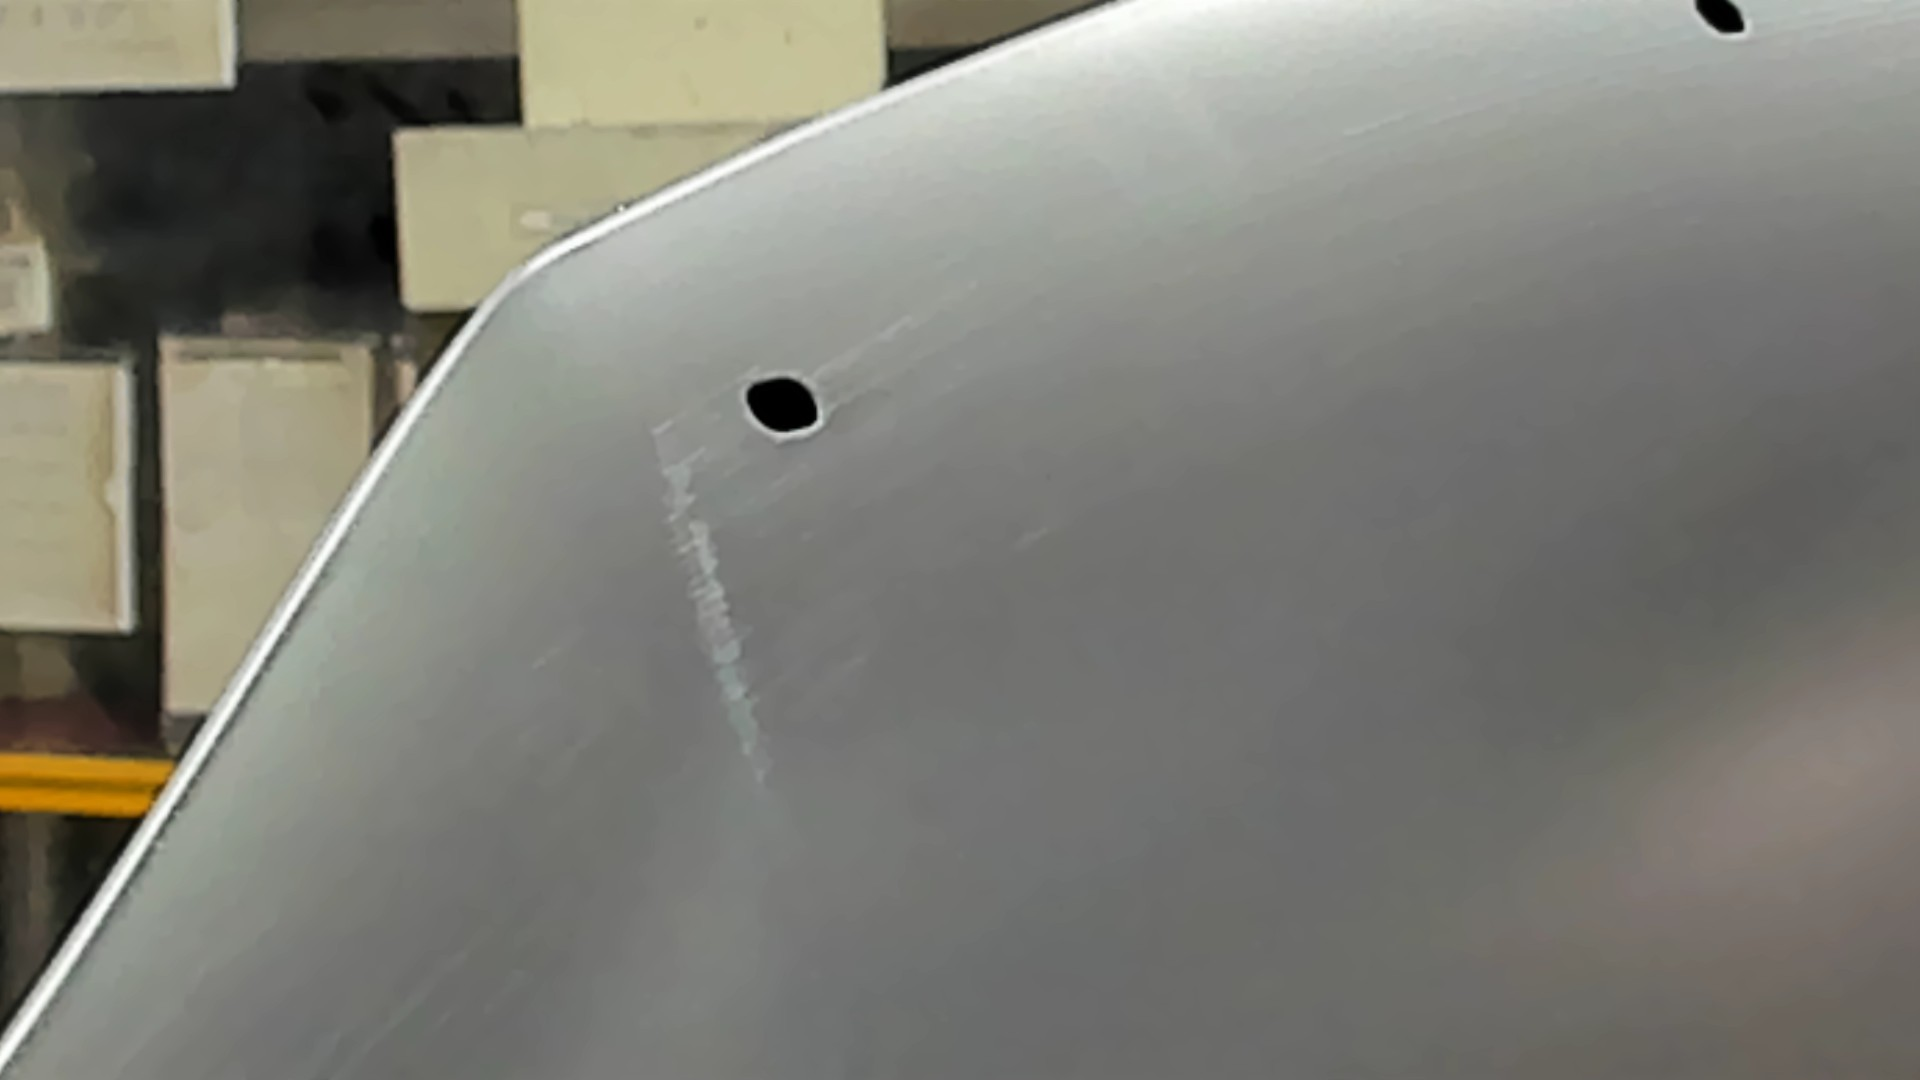amorfo: (737, 371, 833, 447), (1691, 1, 1755, 50)
capo: (916, 121, 1920, 1080)
